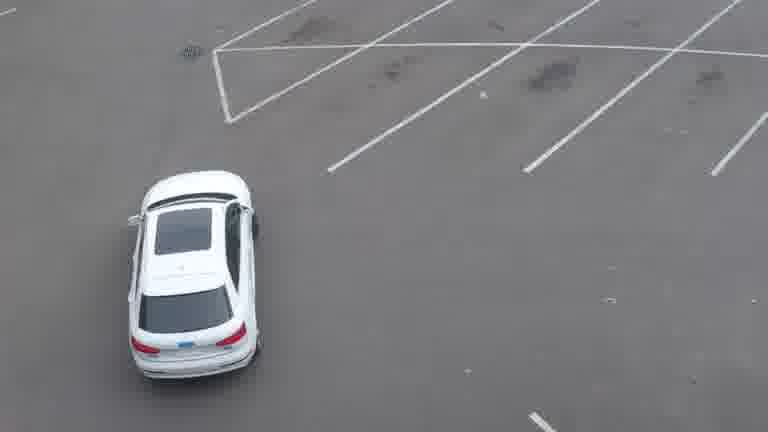person: (124, 171, 264, 386)
